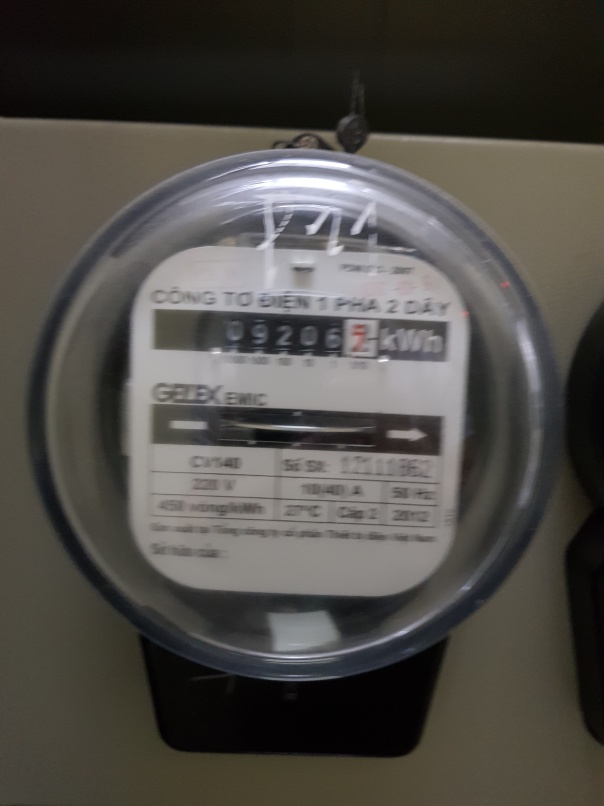counter: (156, 307, 449, 360)
electricity_meter: (23, 147, 563, 683)
